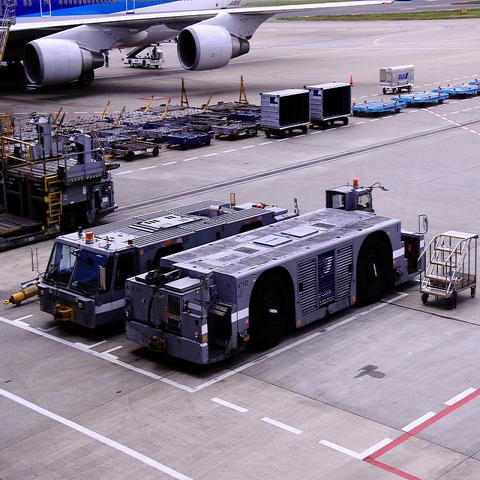truck: (124, 180, 426, 371), (27, 186, 301, 330), (306, 81, 351, 127), (379, 64, 415, 95)
